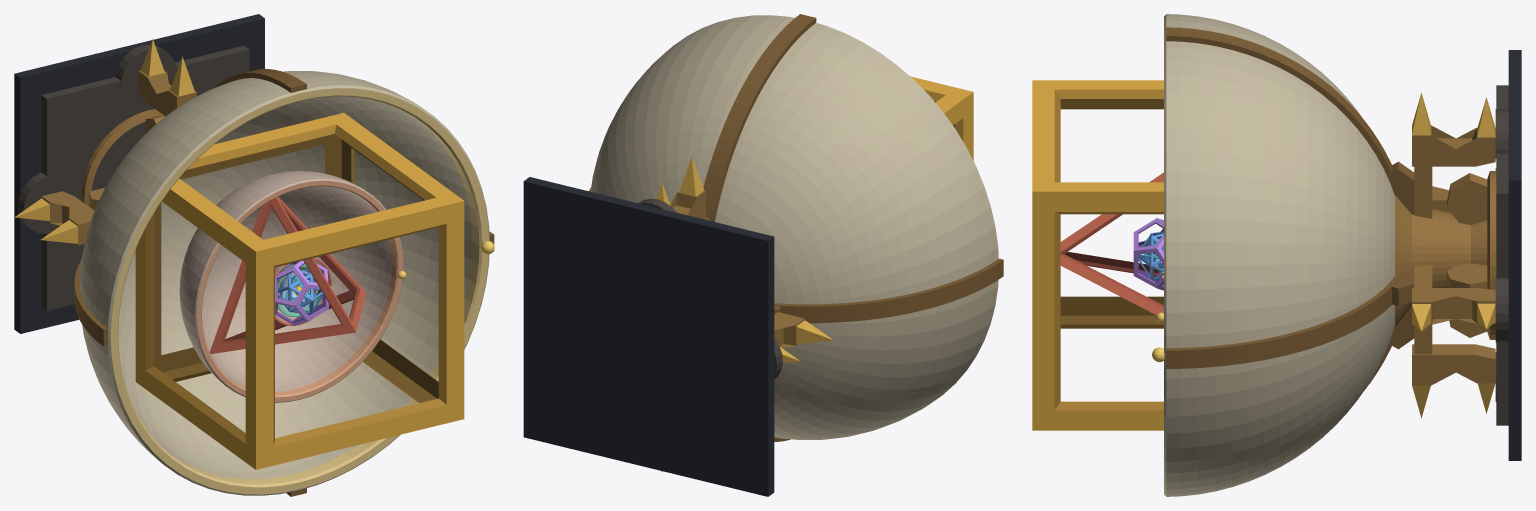
Rendered from tabula_iii.obj.
3 views of the same model, side by side, from view 1: azimuth 30°, elevation 25°; view 2: azimuth 150°, elevation 25°; view 3: azimuth 270°, elevation 25° (orthographic). The views are drawn at different scales.
Visible parts, largest first — view 1: 02_Alpha_Saturn_Bowl, 03_Beta_Cube_Frame, 01_Pedestal_Cradle, 04_Gamma_Jupiter_Bowl, 05_Delta_Tetrahedron_Frame, 07_Zeta_Dodecahedron_Frame, 09_Theta_Icosahedron_Frame; view 2: 02_Alpha_Saturn_Bowl, 01_Pedestal_Cradle, 03_Beta_Cube_Frame; view 3: 02_Alpha_Saturn_Bowl, 01_Pedestal_Cradle, 03_Beta_Cube_Frame, 05_Delta_Tetrahedron_Frame, 07_Zeta_Dodecahedron_Frame, 09_Theta_Icosahedron_Frame.
Boxes of the visible parts, left/top/right/bottom form: 02_Alpha_Saturn_Bowl: left=79, top=71, right=494, bottom=495; 03_Beta_Cube_Frame: left=135, top=113, right=464, bottom=469; 01_Pedestal_Cradle: left=14, top=14, right=494, bottom=496; 04_Gamma_Jupiter_Bowl: left=179, top=171, right=406, bottom=402; 05_Delta_Tetrahedron_Frame: left=209, top=196, right=366, bottom=353; 07_Zeta_Dodecahedron_Frame: left=275, top=260, right=328, bottom=325; 09_Theta_Icosahedron_Frame: left=278, top=269, right=323, bottom=313; 02_Alpha_Saturn_Bowl: left=590, top=15, right=998, bottom=439; 01_Pedestal_Cradle: left=523, top=14, right=1003, bottom=496; 03_Beta_Cube_Frame: left=910, top=76, right=973, bottom=160; 02_Alpha_Saturn_Bowl: left=1152, top=14, right=1394, bottom=496; 01_Pedestal_Cradle: left=1166, top=27, right=1521, bottom=460; 03_Beta_Cube_Frame: left=1032, top=80, right=1163, bottom=430; 05_Delta_Tetrahedron_Frame: left=1060, top=172, right=1163, bottom=314; 07_Zeta_Dodecahedron_Frame: left=1133, top=218, right=1163, bottom=290; 09_Theta_Icosahedron_Frame: left=1138, top=231, right=1163, bottom=280.
Size of the model in its own units: 2.04 by 2.04 by 2.03.
